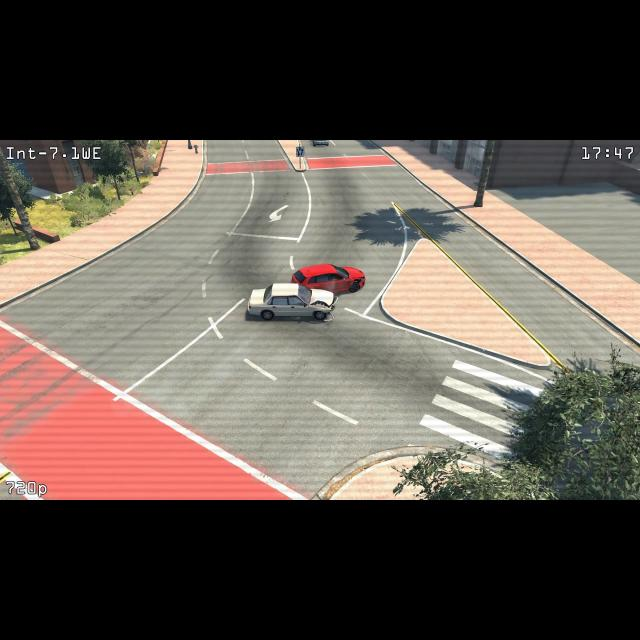accident: (242, 260, 370, 326)
